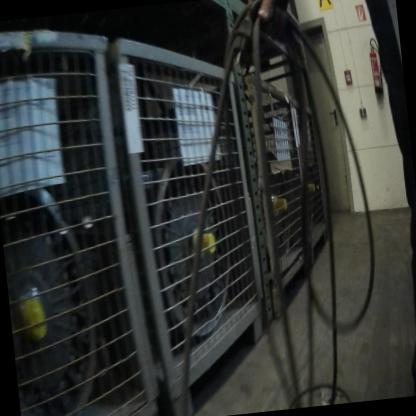stillage: (25, 16, 275, 416), (0, 12, 153, 416), (158, 56, 317, 349), (223, 85, 337, 286)
